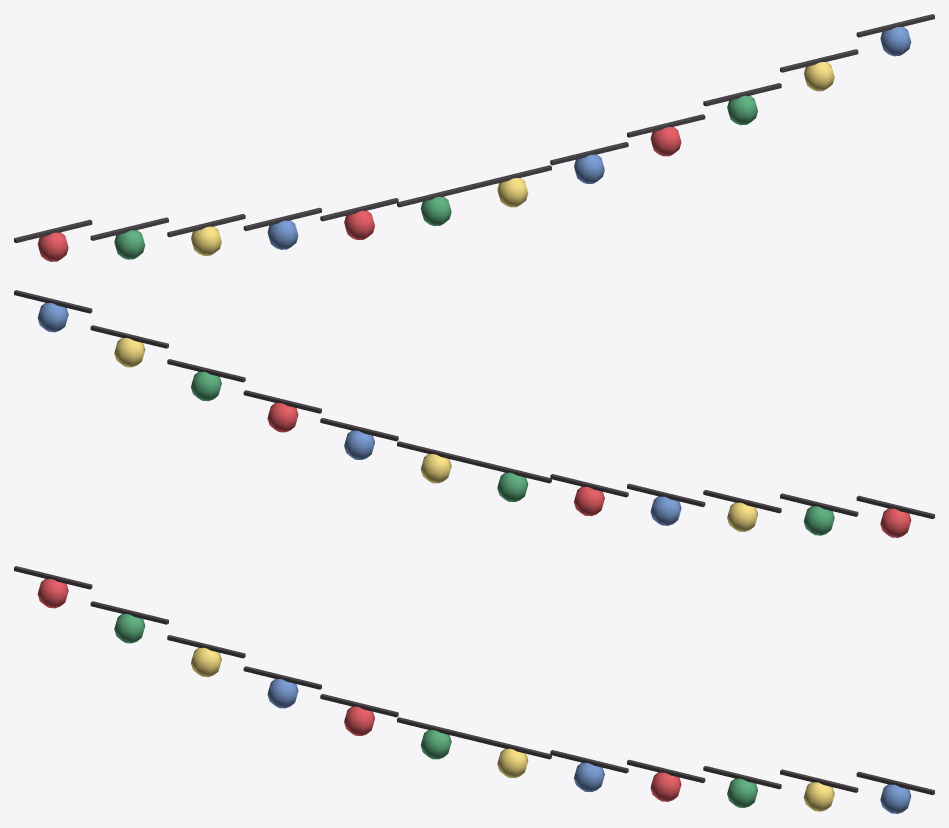
The model's file is StringLights.fbx.
3 views of the same model, one above another, from view 1: azimuth 30°, elevation 25°; view 2: azimuth 150°, elevation 25°; view 3: azimuth 330°, elevation 25° (orthographic).
Visible parts, largest first — view 1: StringLights; view 2: StringLights; view 3: StringLights.
Part boxes in pixels (x1=…): StringLights: x1=14, y1=14, x2=934, y2=261; StringLights: x1=14, y1=290, x2=934, y2=537; StringLights: x1=14, y1=566, x2=934, y2=813.
Size of the model in its own units: 198 by 18.28 by 6.
